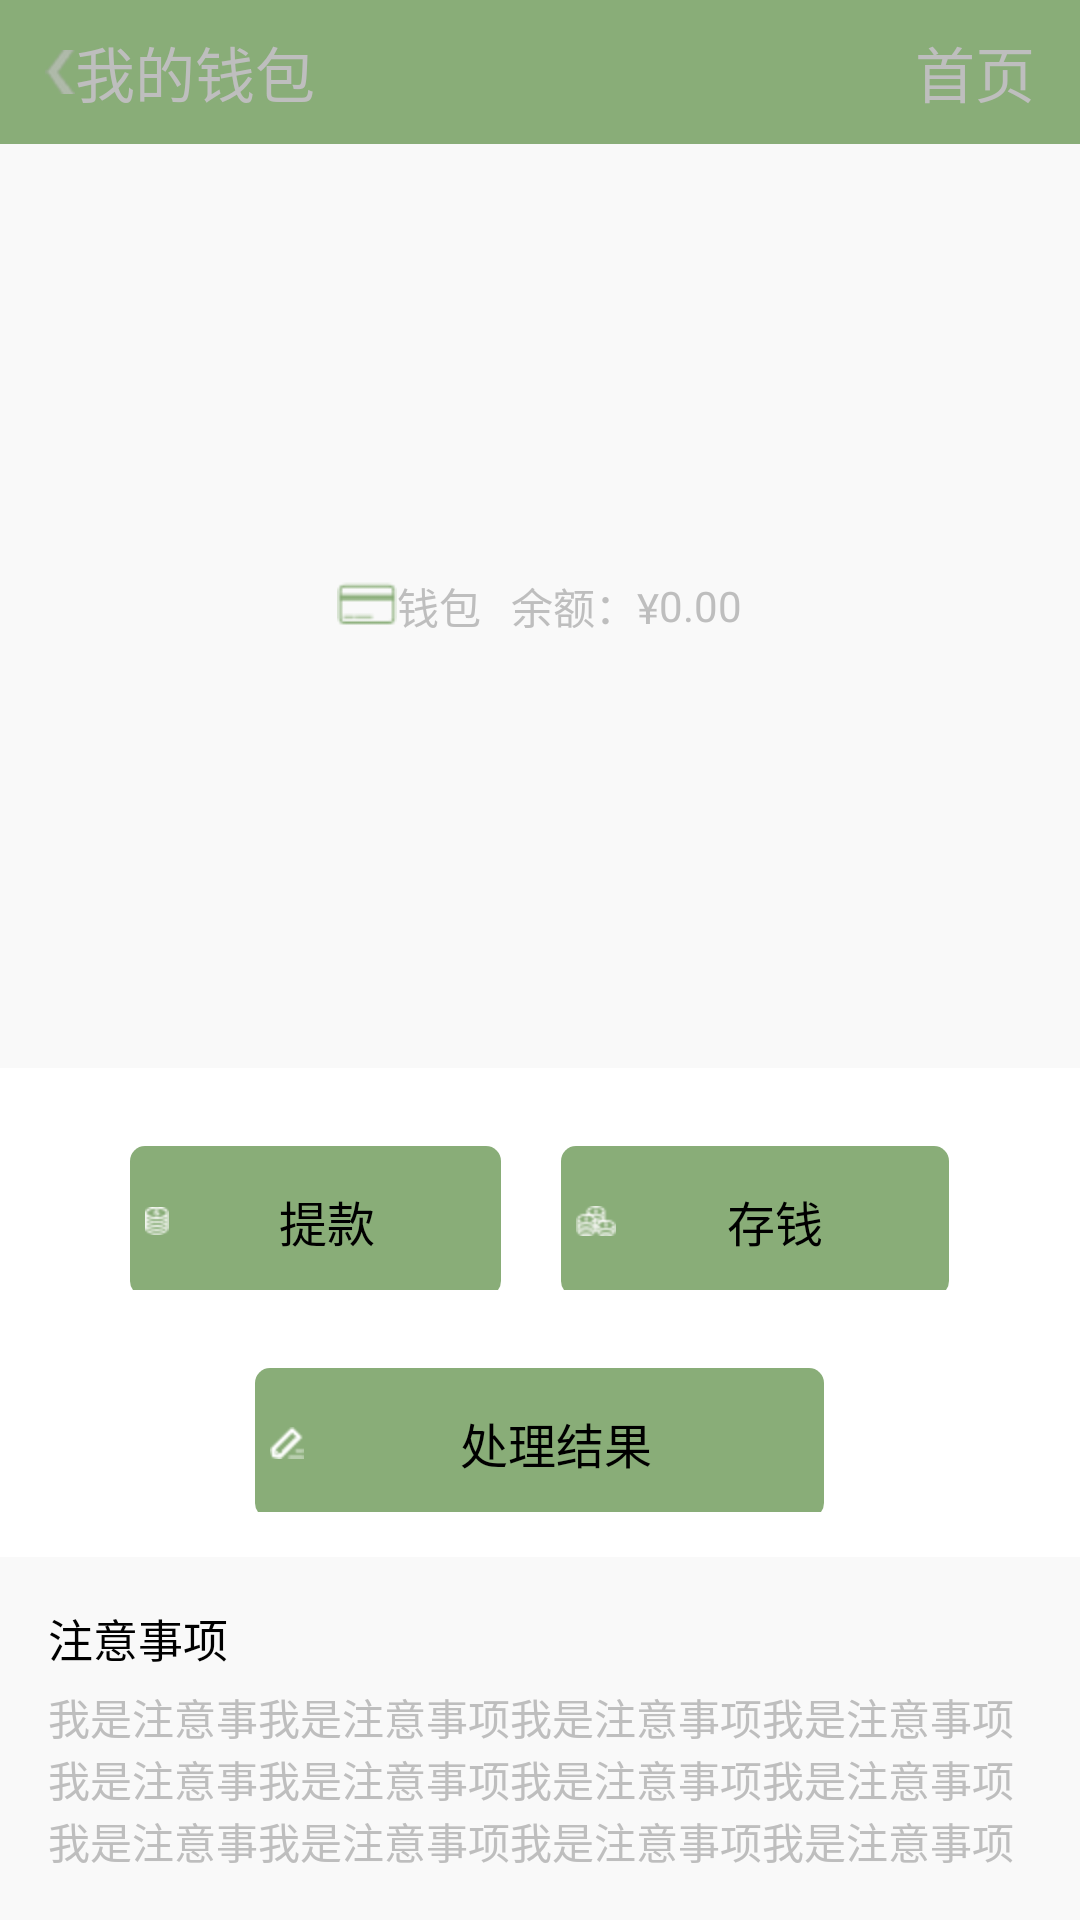

Locate icon controls on the screen. Image size 1080*1920, boxes as (x1, y1, x2, y2).
arrow left: (48, 50, 74, 94)
